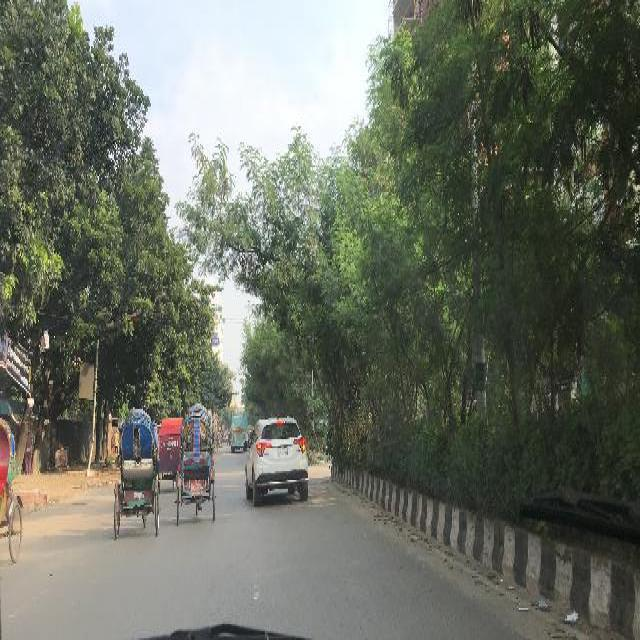vehicle: (115, 409, 162, 539), (247, 420, 310, 507), (177, 404, 217, 526), (1, 414, 24, 574), (231, 413, 248, 454)
